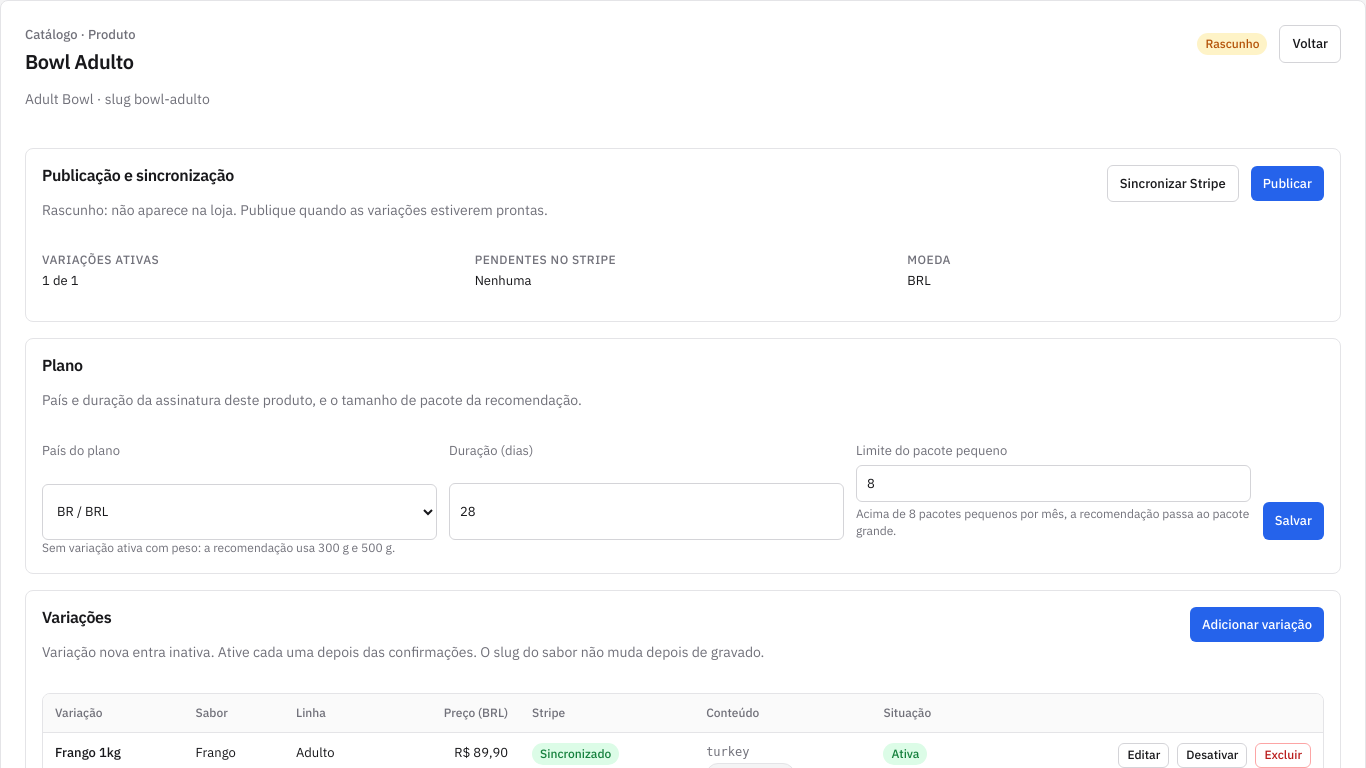
Test: ProductDetailPage › locks the line of a variation linked to a recipe on the recipe life stage
Step 1. Click the button with aria-label "Editar variação Frango 1kg" → (1144, 755), box x1=1118 y1=743 x2=1169 y2=767
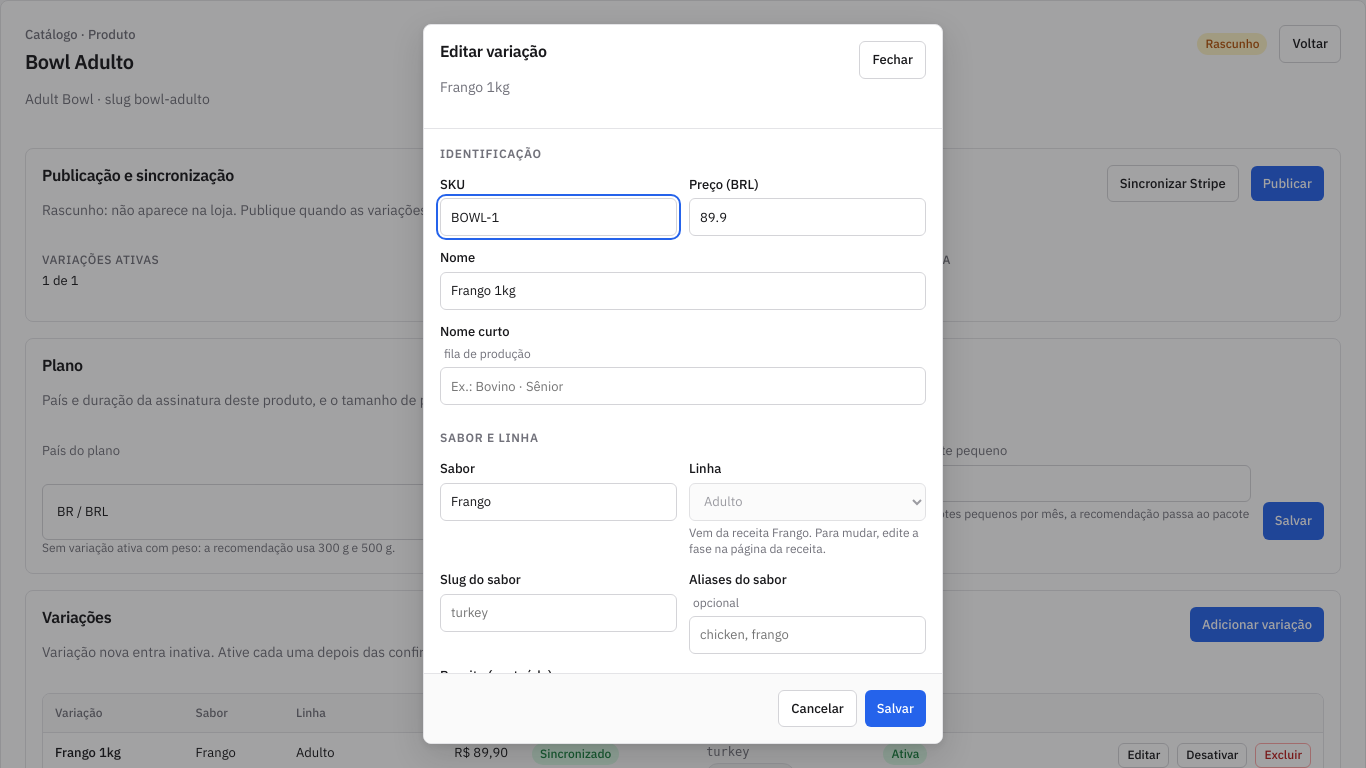
Check: the dropdown labelled "Linha" is disabled, box x1=689 y1=483 x2=926 y2=521
Check: the dropdown labelled "Linha" shows "Adulto", box x1=689 y1=483 x2=926 y2=521
Check: the text "Vem da receita Frango" is shown, box x1=689 y1=525 x2=926 y2=558
